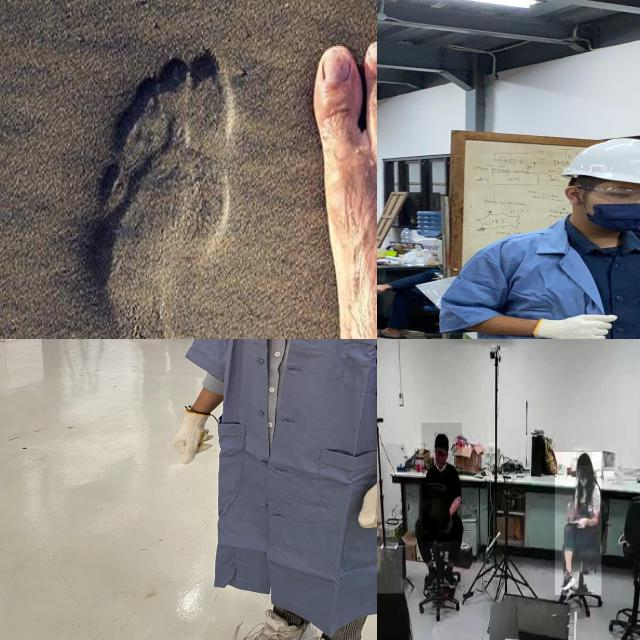Sandals: (313, 37, 377, 339)
face_mask: (580, 180, 640, 229)
face_nomask: (435, 448, 447, 468)
glasses: (578, 179, 640, 207)
hand_glove: (162, 408, 220, 459), (530, 310, 627, 339), (346, 463, 377, 534)
hand_noglove: (577, 515, 587, 529)
head_helmet: (556, 135, 640, 187)
head_nohelmet: (377, 546, 403, 594), (576, 451, 592, 466), (434, 432, 448, 448)
person: (164, 339, 377, 640), (435, 130, 640, 339), (555, 452, 602, 596), (422, 422, 462, 542)
shoes: (222, 601, 325, 640), (560, 566, 576, 593), (425, 563, 439, 591), (443, 564, 456, 590)
